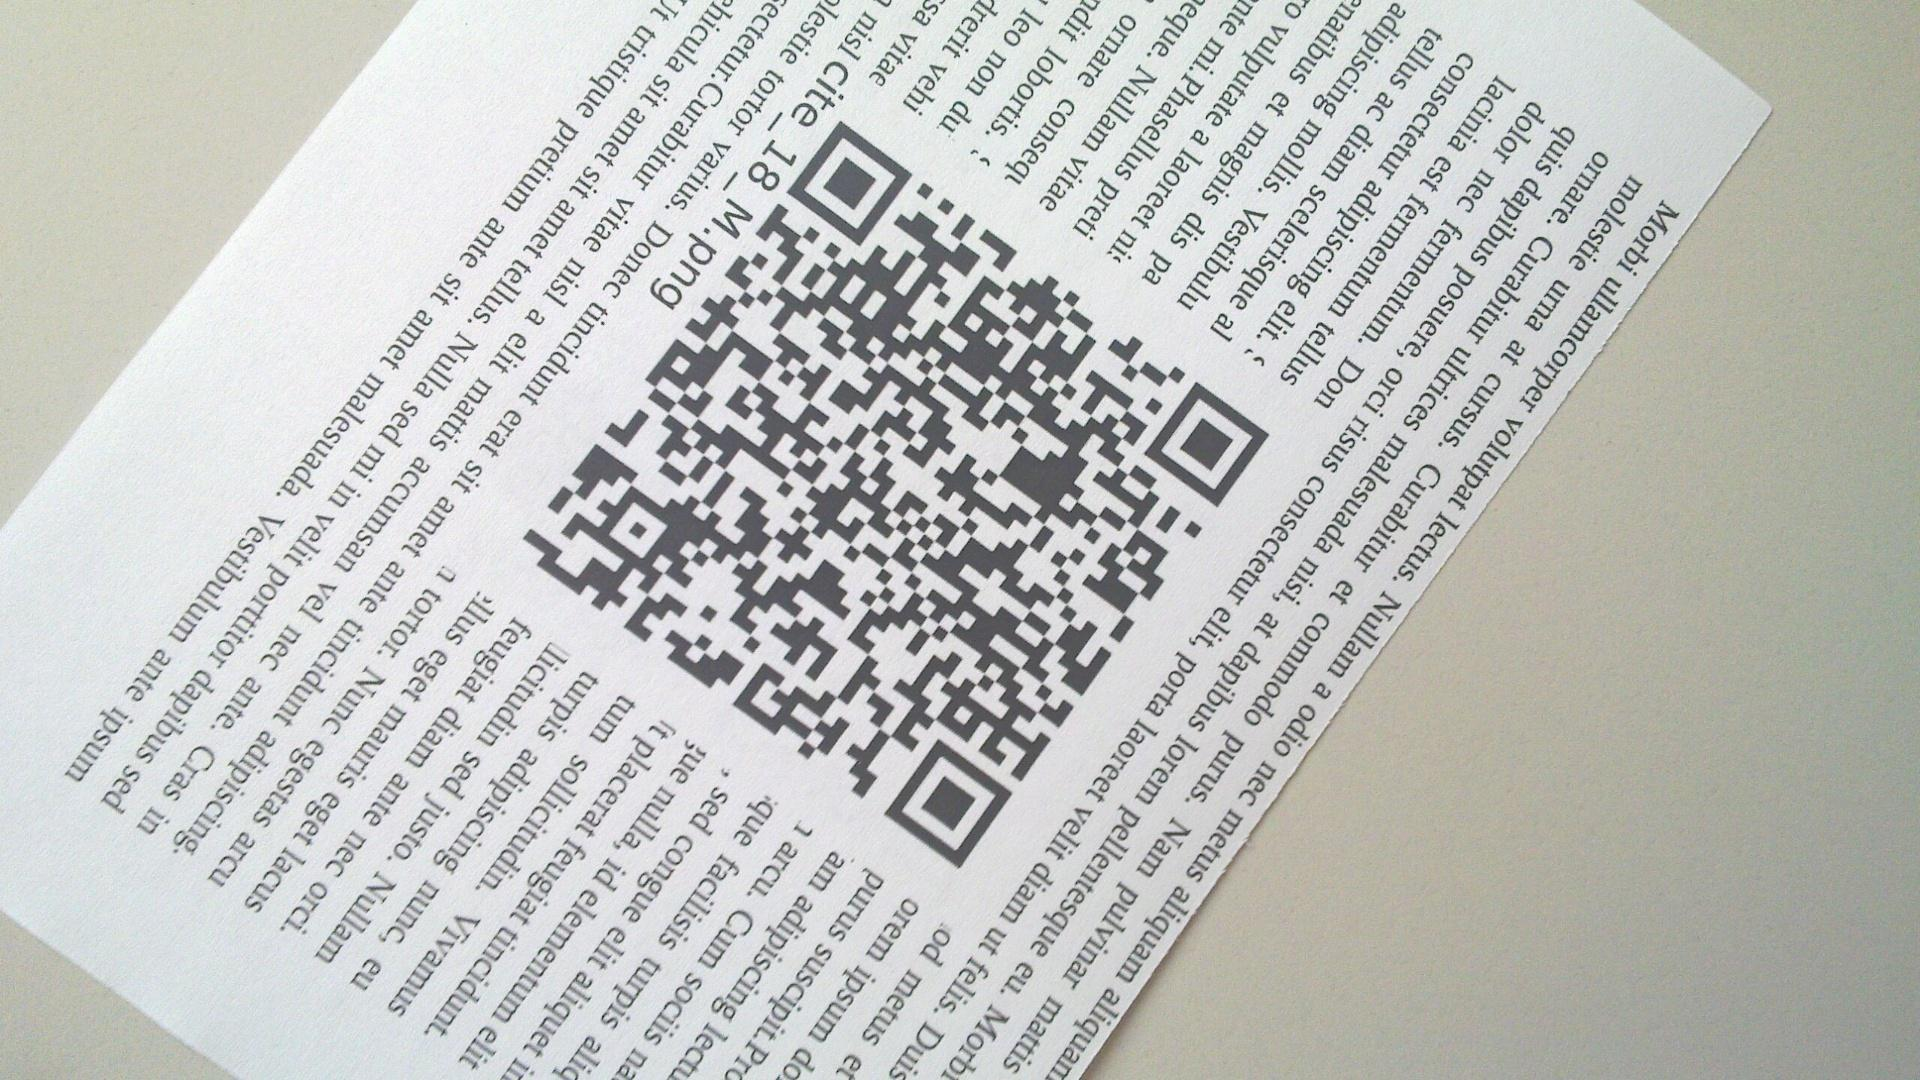qr_code: (518, 120, 1269, 868)
